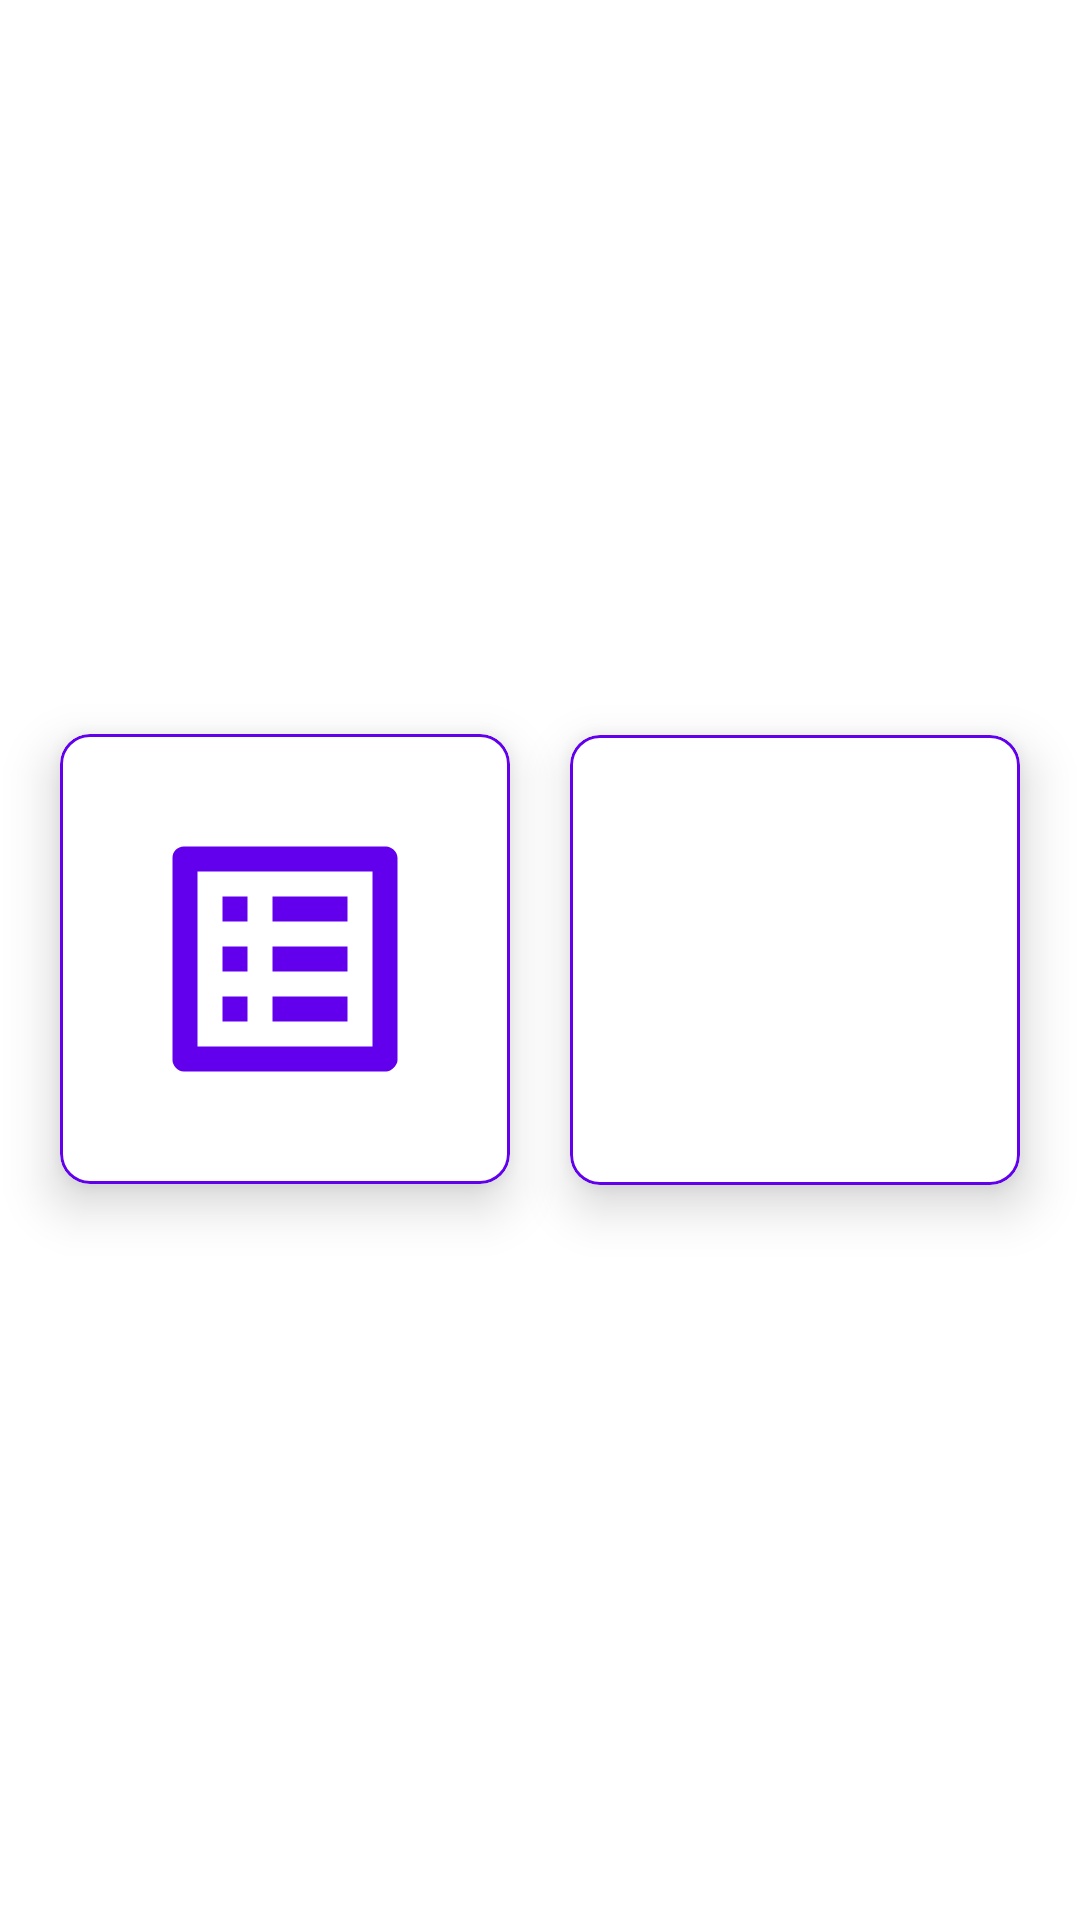

Icons on this 1080x1920 Android screen, each with the point to tap as point (x, y):
list: point (285, 959)
